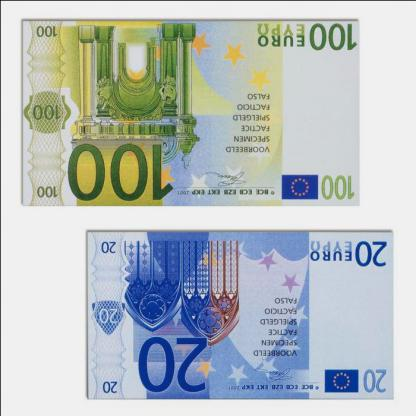euro_banknote: (23, 20, 361, 207), (87, 232, 395, 400)
